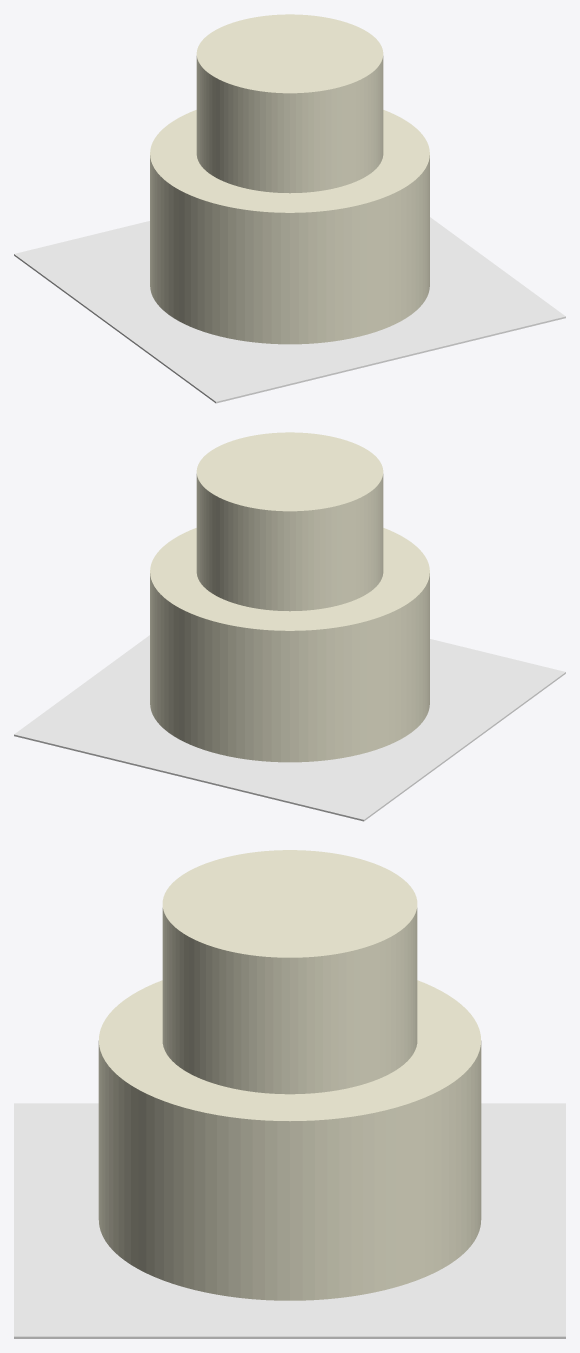
The model's file is cake_tier2_6-4_layers2_v26.glb.
The picture shows the model from 3 angles, top to bottom: view 1: azimuth 30°, elevation 25°; view 2: azimuth 150°, elevation 25°; view 3: azimuth 270°, elevation 25°; orthographic projection. The views are drawn at different scales.
Parts seen in each view (by area): view 1: Tier0, Board, Tier1; view 2: Tier0, Board, Tier1; view 3: Tier0, Board, Tier1.
Part boxes in pixels (x1,y1,x2,y2): Tier0: (150, 110, 429, 344); Board: (14, 217, 565, 403); Tier1: (196, 14, 383, 193); Tier0: (150, 528, 429, 762); Board: (14, 635, 565, 821); Tier1: (196, 432, 383, 611); Tier0: (98, 980, 481, 1300); Board: (14, 1103, 565, 1338); Tier1: (162, 850, 417, 1094).
Bounding box in the file's own units: 0.22 × 0.14 × 0.22.
